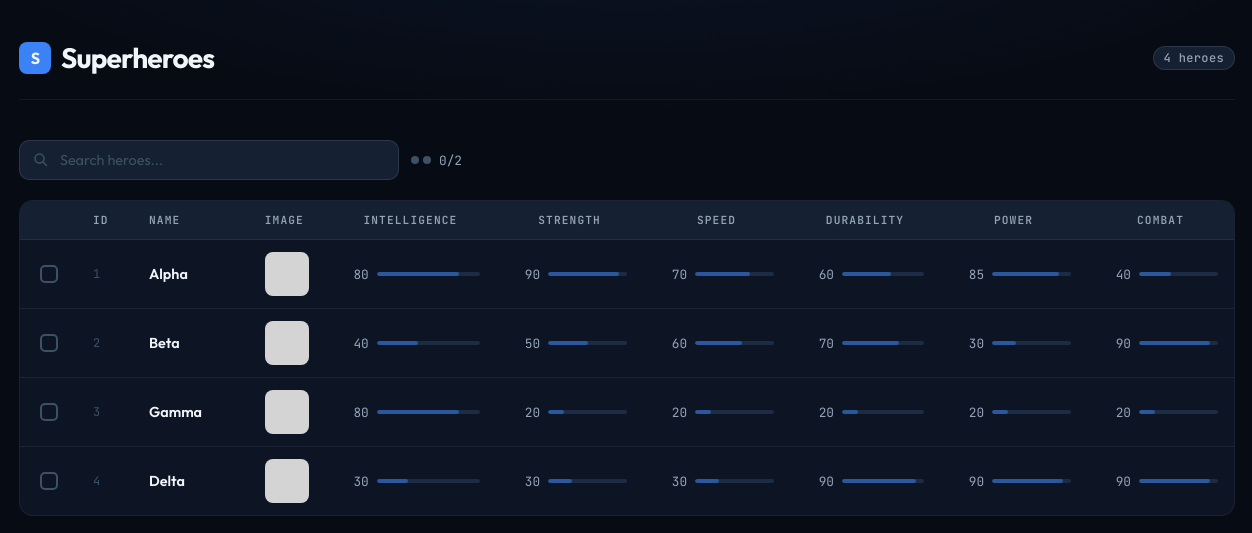
it: search input › filters rows by name (case-insensitive)
Type "alpha" into the field with placeholder "Search heroes...".
click(209, 160); type("alpha")  # box [19, 140, 399, 180]
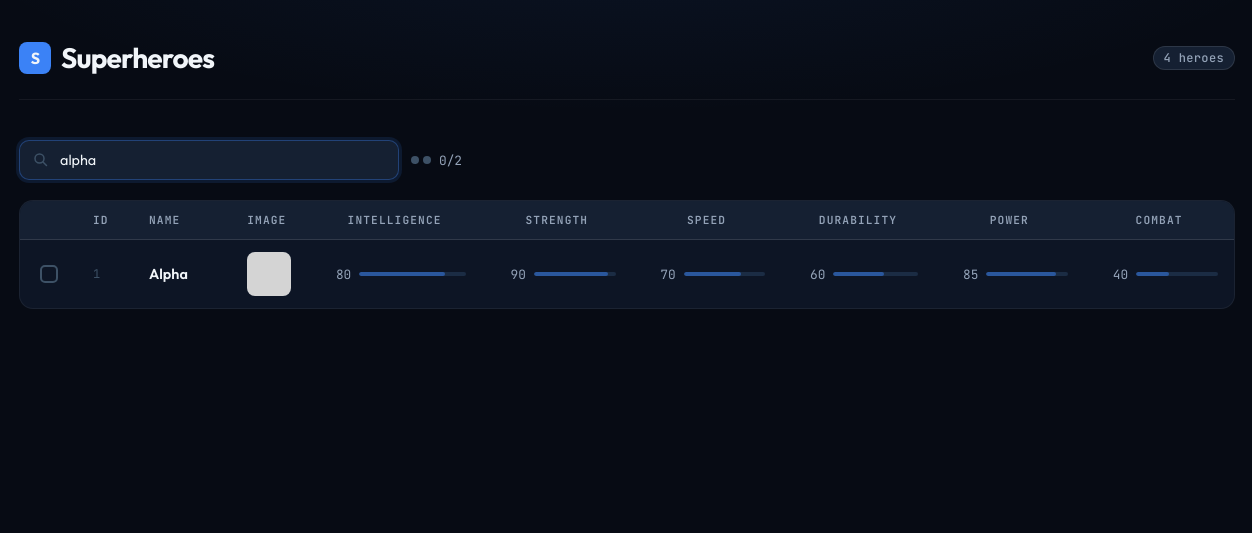
Check: the text "Beta" is gone
Check: the text "Gamma" is gone
Check: the text "Delta" is gone
